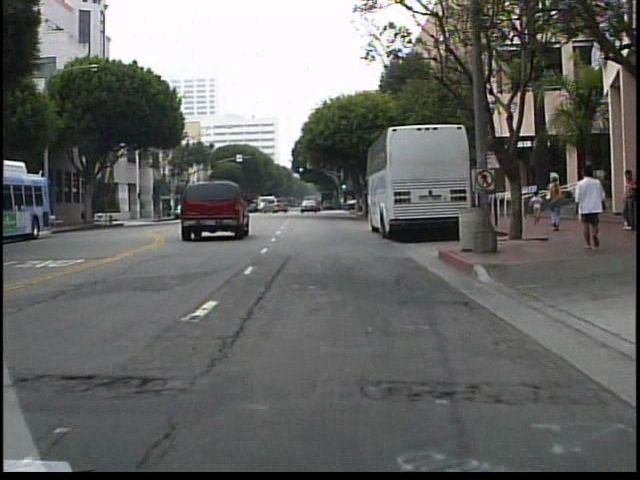person: (573, 165, 608, 254), (619, 164, 638, 237), (546, 174, 566, 236), (528, 191, 544, 228)
